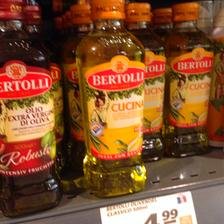Oel: (73, 0, 146, 196), (0, 0, 62, 216), (163, 2, 213, 154)
